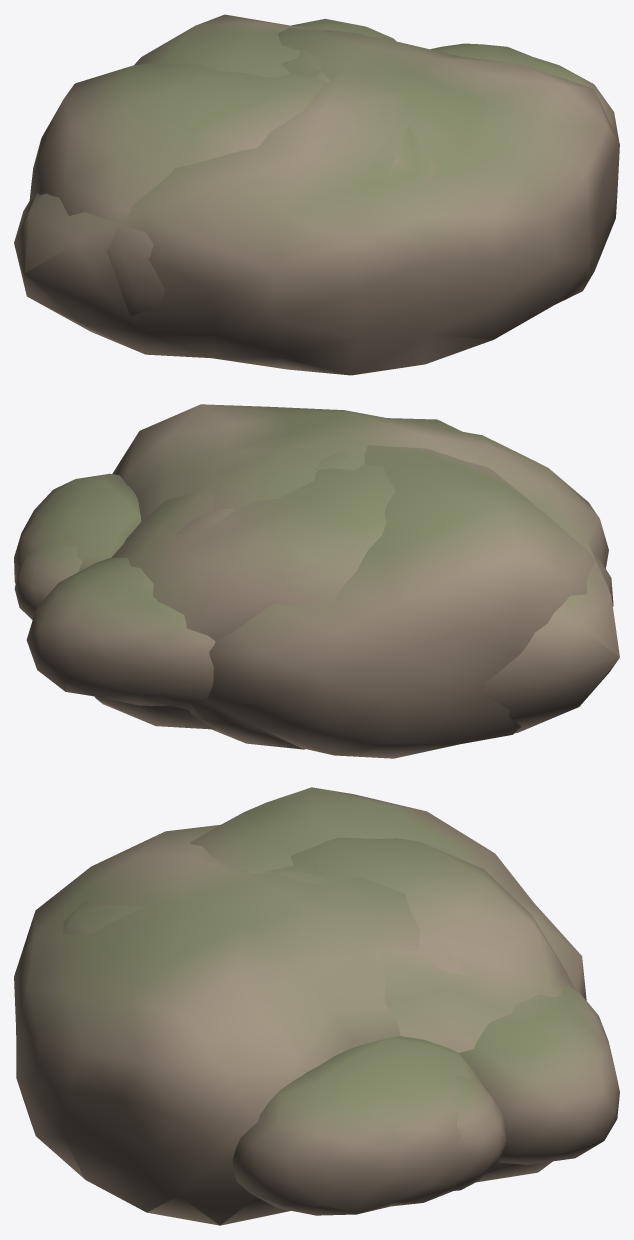
Rendered from rock_large.glb.
3 renders of one model, top to bottom at view 1: azimuth 30°, elevation 25°; view 2: azimuth 150°, elevation 25°; view 3: azimuth 270°, elevation 25°, orthographic. The views are drawn at different scales.
Visible parts, largest first — view 1: v2, v1, v3, v0; view 2: v1, v2, v3, v0; view 3: v2, v3, v1, v0.
Boxes of the visible parts, x1,y1,x2,y2 form: v2: (14,18,619,375); v1: (29,63,325,315); v3: (134,14,370,77); v0: (298,30,437,193); v1: (14,445,613,758); v2: (14,404,619,733); v3: (94,464,395,729); v0: (176,418,461,749); v2: (14,824,619,1225); v3: (290,837,575,1182); v1: (189,787,586,1191); v0: (63,870,465,975).
Size of what is drawn, in the model's own units: 7.63 by 2.6 by 6.25.
